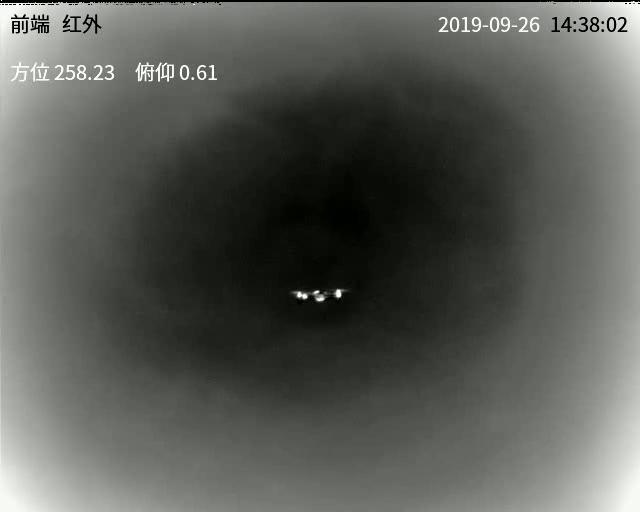DRONE: (295, 288, 345, 305)
